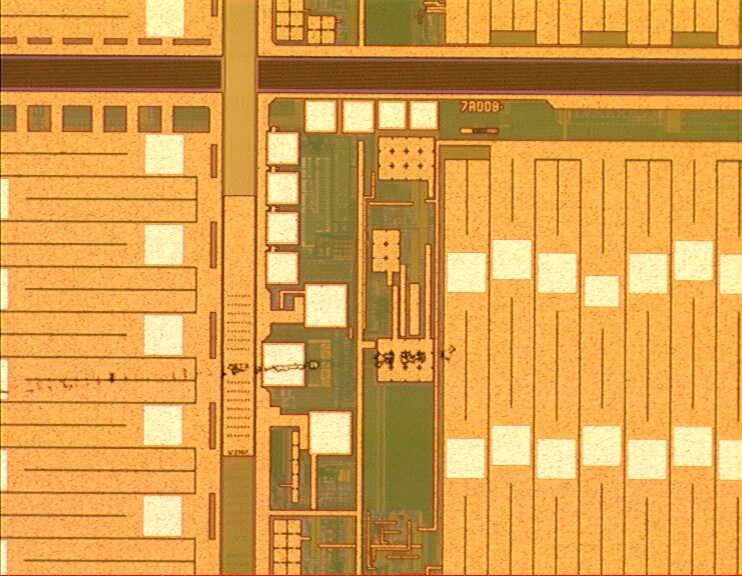SCRATCH: (1, 338, 466, 406)
